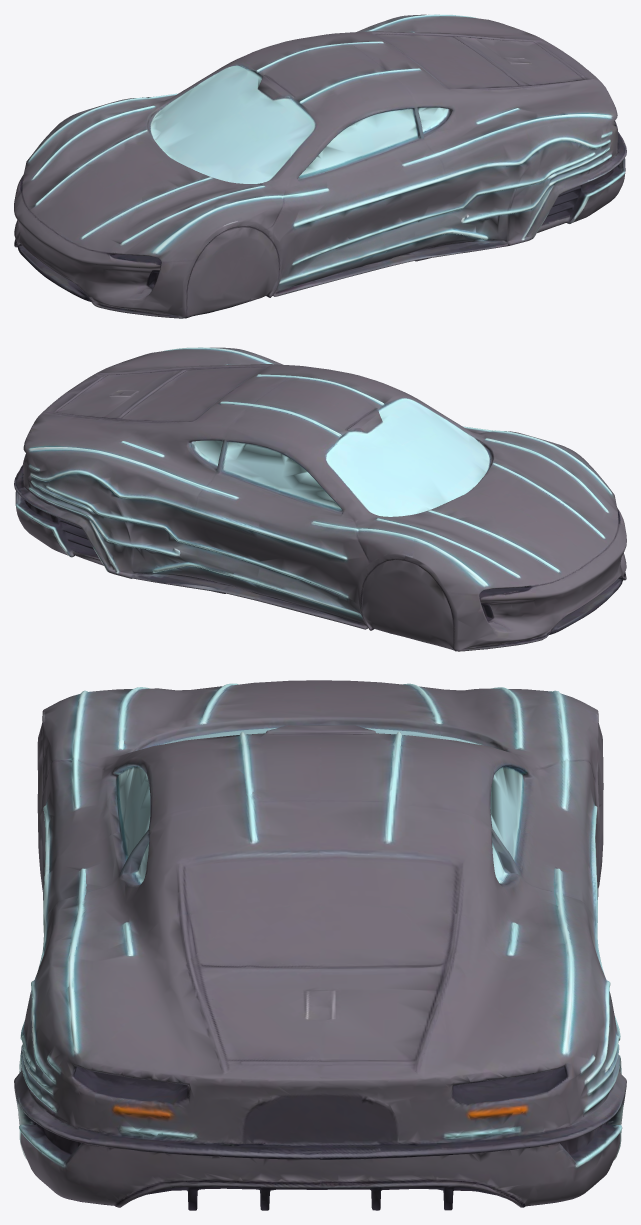
Rendered from web_glb.glb.
The picture shows the model from 3 angles, top to bottom: view 1: azimuth 30°, elevation 25°; view 2: azimuth 150°, elevation 25°; view 3: azimuth 270°, elevation 25°; orthographic projection. The views are drawn at different scales.
Visible parts, largest first — view 1: Brighter Neon Streaks Hover; view 2: Brighter Neon Streaks Hover; view 3: Brighter Neon Streaks Hover.
Part boxes in pixels (<box>): Brighter Neon Streaks Hover: <box>14,14,626,318</box>; Brighter Neon Streaks Hover: <box>14,347,626,651</box>; Brighter Neon Streaks Hover: <box>14,680,626,1210</box>.
Size of the model in its own units: 0.9999 by 0.2606 by 0.5356.
Materials: 1 (1 with a texture image).
